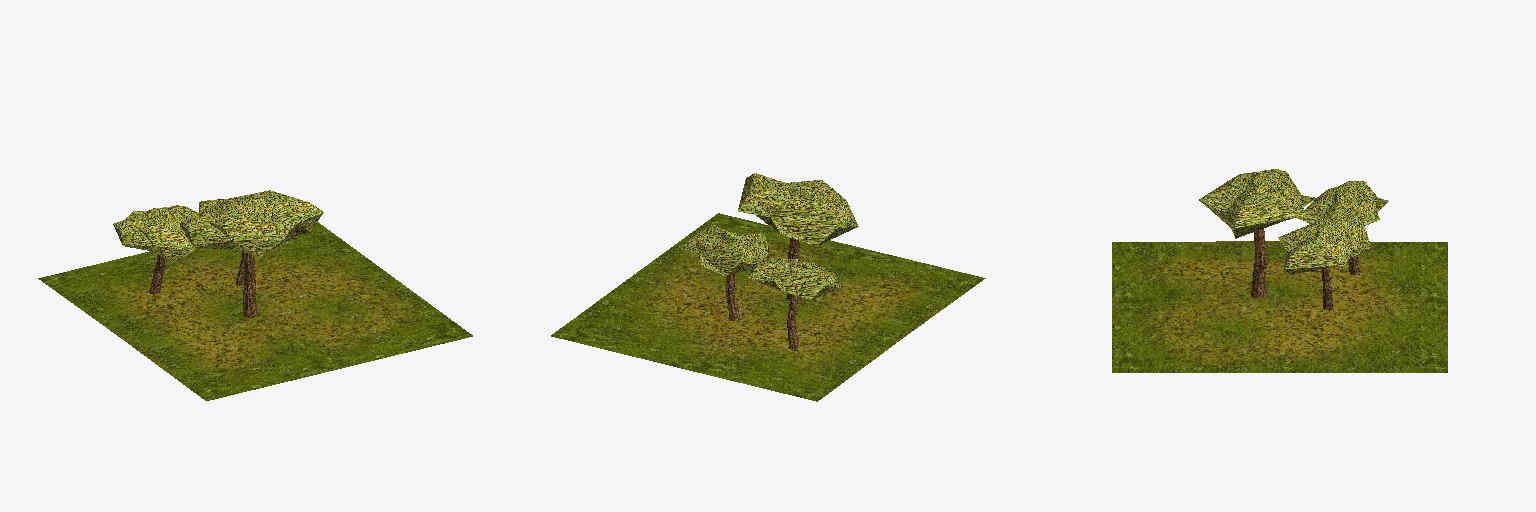
3 views of the same model, side by side, from view 1: azimuth 30°, elevation 25°; view 2: azimuth 150°, elevation 25°; view 3: azimuth 270°, elevation 25° (orthographic).
Parts seen in each view (by area): view 1: polySurface2; view 2: polySurface2; view 3: polySurface2.
Part boxes in pixels (x1,y1,x2,y2): polySurface2: (38, 190, 472, 400); polySurface2: (551, 173, 985, 401); polySurface2: (1112, 169, 1447, 372).
Size of the model in its own units: 13.31 by 6.44 by 14.5.
Materials: 8 (3 with a texture image).